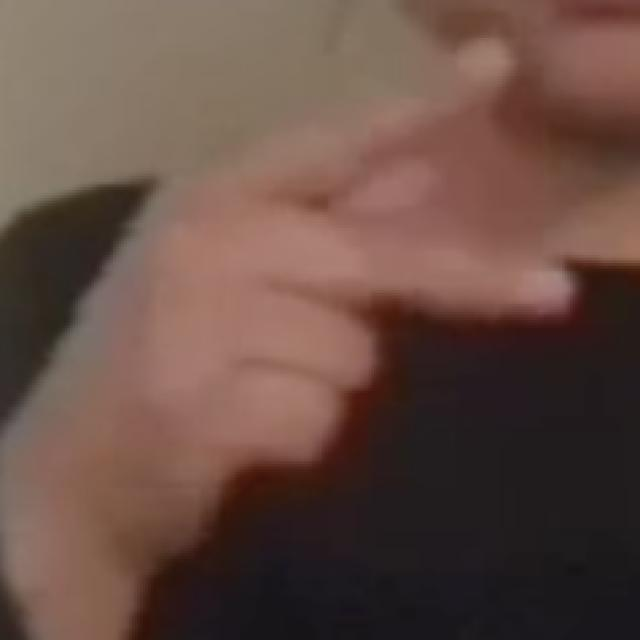K: (18, 31, 578, 594)
